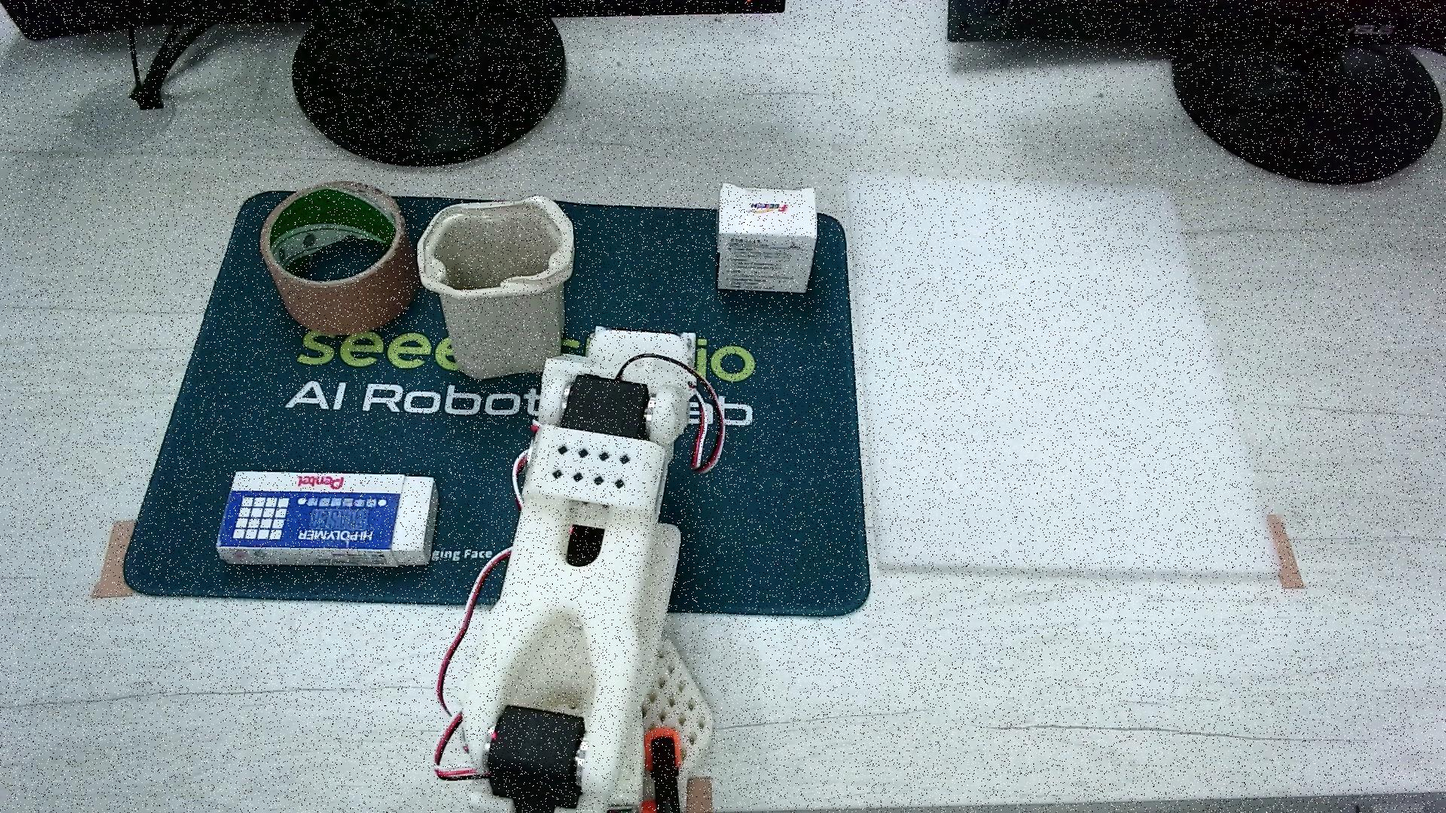eraser: (716, 184, 817, 291)
